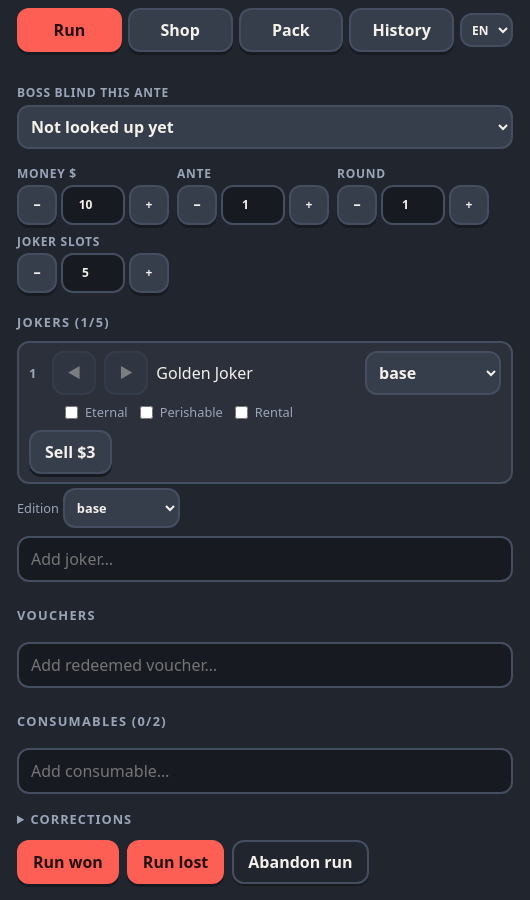
it: sells a joker and refunds the sell value
(page scrolled)
Expected: the text "Golden Joker" is shown, [156,362,253,384]
What coordinates should you click on to do the following:
click the button "Sell $3"
I would click on:
 (70, 452)
Its box is [29,430,112,474].
(page scrolled)
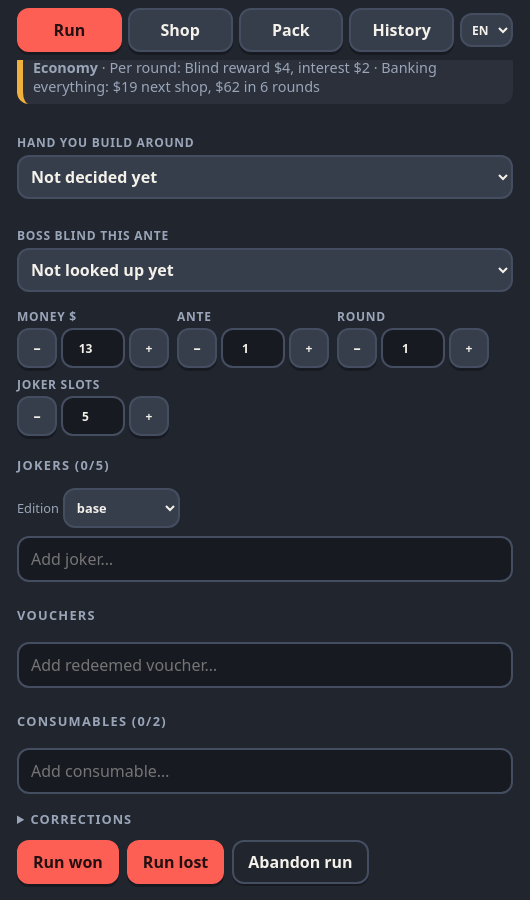
Expected: the number field labelled "Money $" holds "13", [61,328,125,368]
Expected: the text "Golden Joker" is gone
